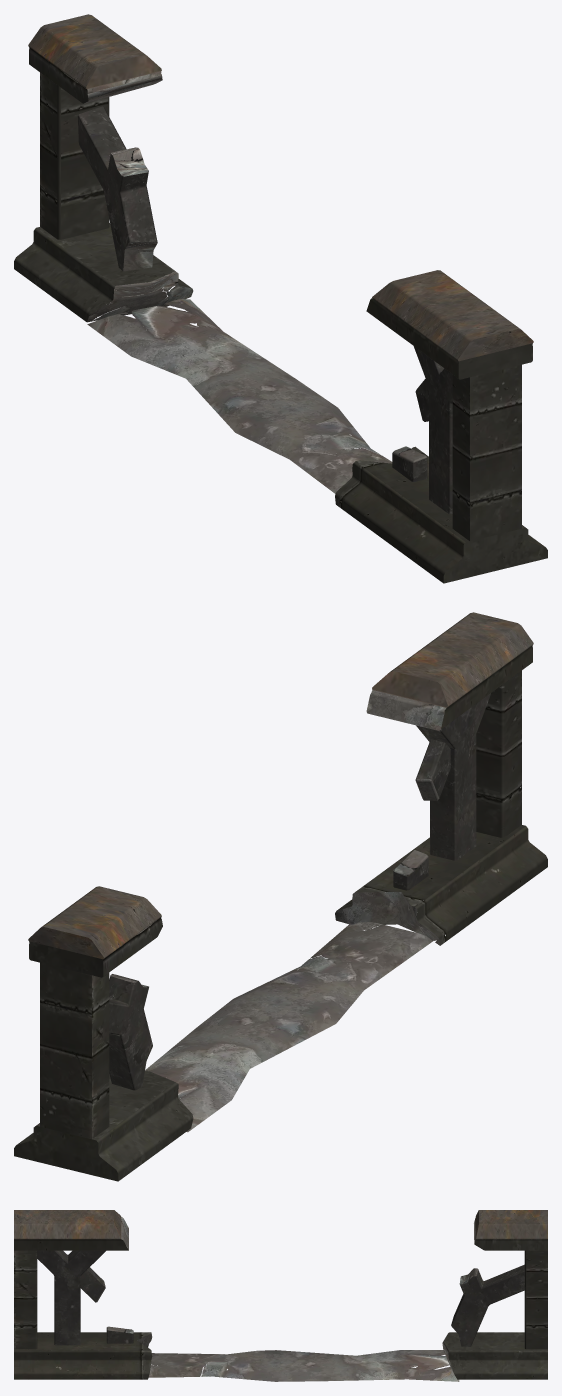
3 renders of one model, top to bottom at view 1: azimuth 30°, elevation 25°; view 2: azimuth 150°, elevation 25°; view 3: azimuth 270°, elevation 25°, orthographic. The views are drawn at different scales.
Parts seen in each view (by area): view 1: SM_Greathall_Banister_02_DMG_LOD0; view 2: SM_Greathall_Banister_02_DMG_LOD0; view 3: SM_Greathall_Banister_02_DMG_LOD0.
Boxes of the visible parts, x1,y1,x2,y2 form: SM_Greathall_Banister_02_DMG_LOD0: [14, 14, 547, 583]; SM_Greathall_Banister_02_DMG_LOD0: [14, 612, 547, 1181]; SM_Greathall_Banister_02_DMG_LOD0: [14, 1210, 547, 1381].
Size of the model in its own units: 0.7022 by 1.54 by 5.
Materials: 4 (4 with a texture image).
